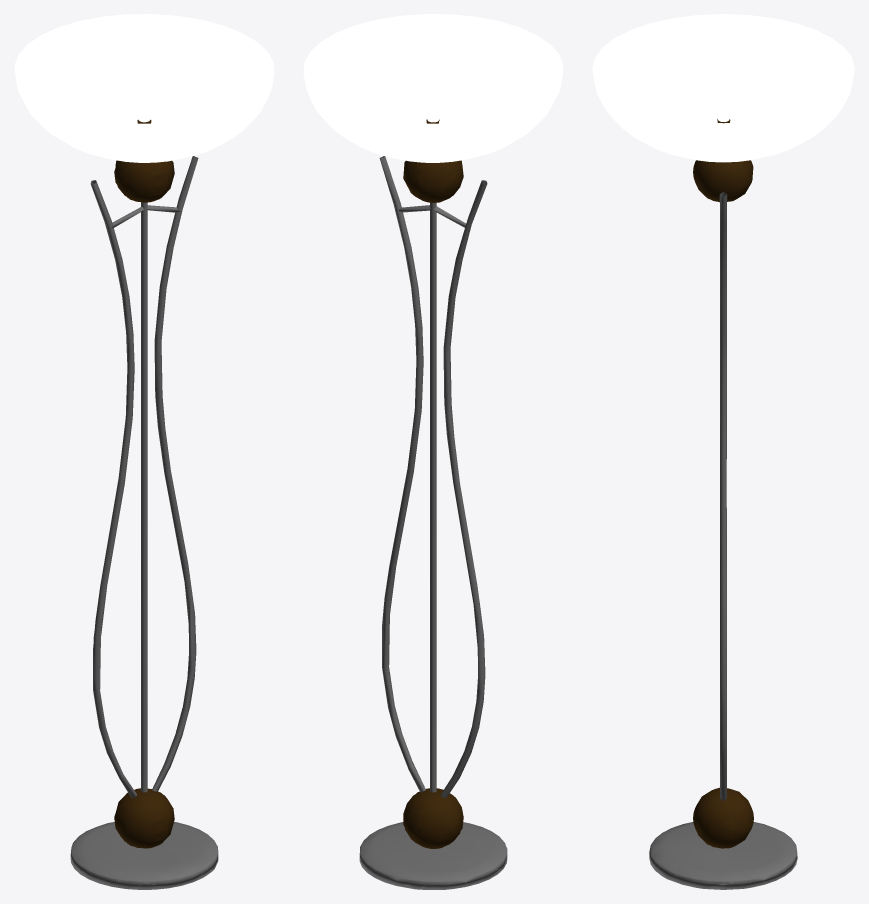
Rendered from floorlamp_edited.gltf.
3 views of the same model, side by side, from view 1: azimuth 30°, elevation 25°; view 2: azimuth 150°, elevation 25°; view 3: azimuth 270°, elevation 25° (orthographic).
Visible parts, largest first — view 1: piantanaNew.001, piantanaNew.001_cromo_0.001; view 2: piantanaNew.001, piantanaNew.001_cromo_0.001; view 3: piantanaNew.001, piantanaNew.001_cromo_0.001.
Boxes of the visible parts, box(x1,y1,x2,y2) form: piantanaNew.001: box(14, 14, 274, 848); piantanaNew.001_cromo_0.001: box(70, 822, 218, 889); piantanaNew.001: box(303, 14, 563, 848); piantanaNew.001_cromo_0.001: box(359, 822, 507, 889); piantanaNew.001: box(592, 14, 854, 848); piantanaNew.001_cromo_0.001: box(649, 822, 797, 889).
Size of the model in its own units: 59.61 by 200 by 60.27.
Materials: 3 (2 with a texture image).
